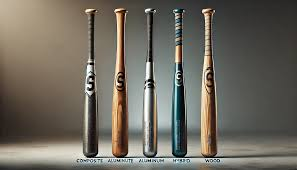baseball bat: (198, 7, 219, 158), (81, 8, 101, 158), (170, 7, 189, 157), (112, 7, 130, 159), (142, 7, 158, 157)
